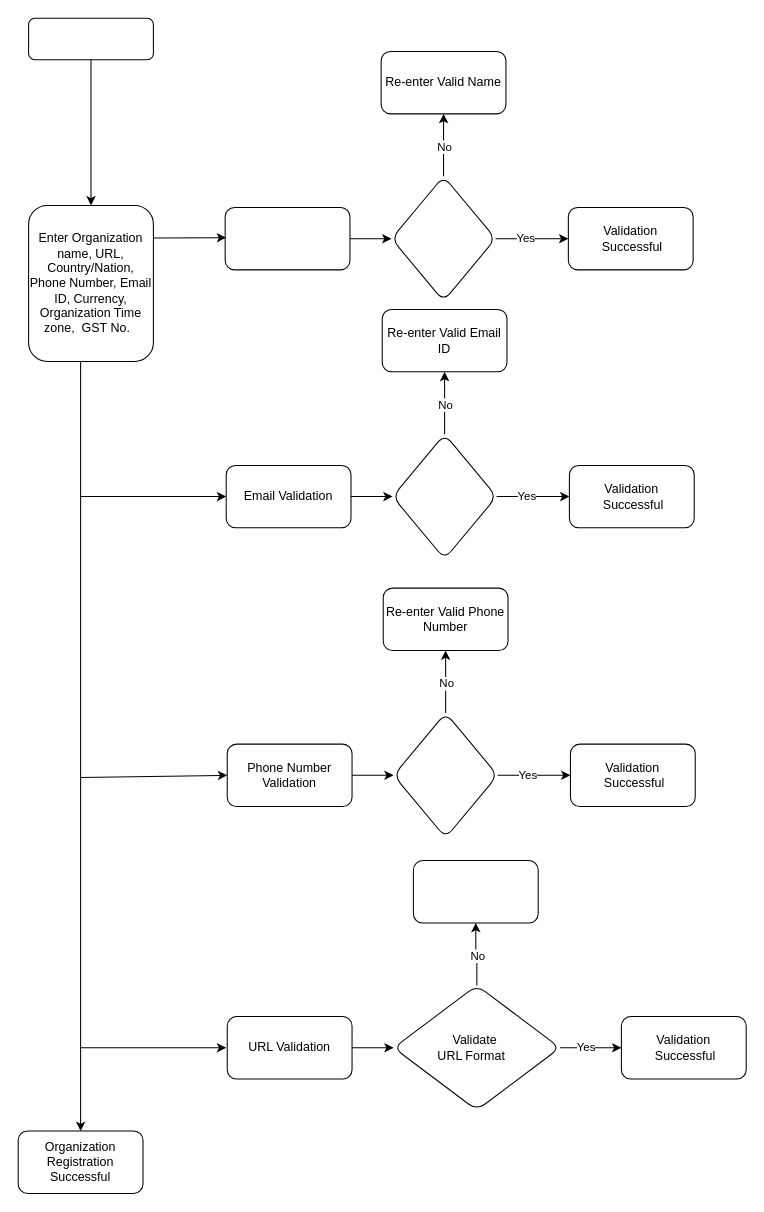
The diagram is 764 pixels wide and 1212 high, and some of its shapes have lost their labels. The shapes that lost their labels are listed below. From the top down, each one's centre as x and y in pixels, then its label:
At point (90, 38): "Go to Organization Registration".
At point (287, 238): "Org. Name Validation".
At point (443, 238): "Validate Name Format (Only alphabets, length limit)".
At point (444, 496): "Validate Email ID Format".
At point (445, 775): "Validate Phone Number E.164 Format".
At point (475, 891): "Re-enter Valid URL".
